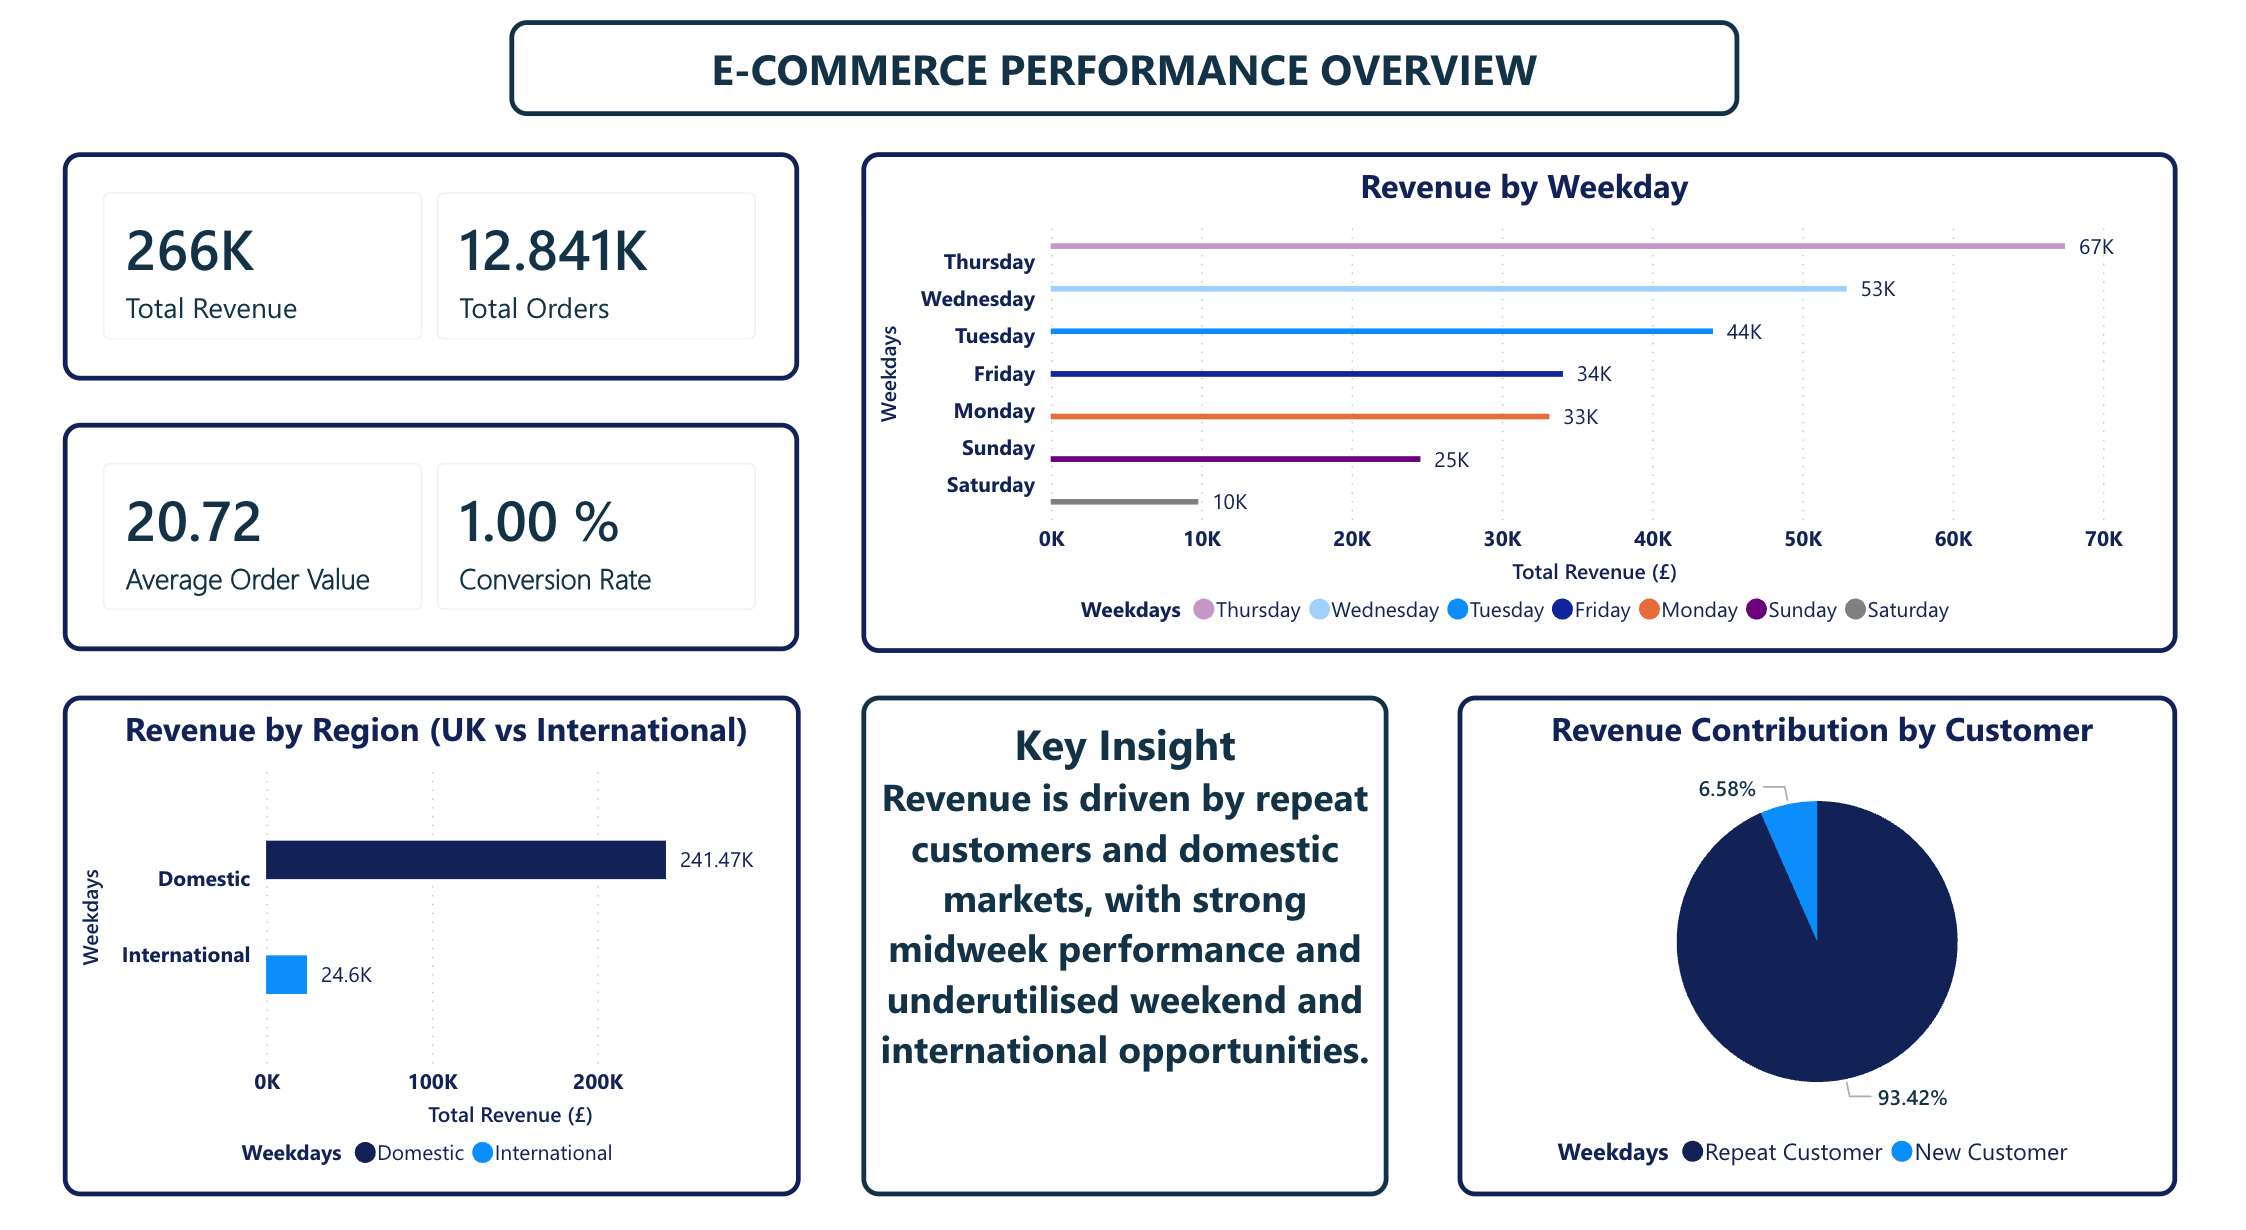

Layout of this report page (visuals, bound fields, positions):
{"tool":"powerbi","page":{"name":"Overview","canvas":[1280,720],"ordinal":0},"visuals":[{"type":"clusteredBarChart","title":"Revenue by Weekday","fields":{"Y":["Sum(online_retail_II.Revenue)"],"Category":["online_retail_II.Match Day"],"Series":["online_retail_II.Match Day"]},"box":[490.6,88.7,749.1,284.9],"z":0},{"type":"pieChart","title":"Revenue Contribution by Customer","fields":{"Y":["Sum(online_retail_II.Revenue)"],"Category":["online_retail_II.Customer Type"]},"box":[830.2,398.1,409.5,284.9],"z":1000},{"type":"clusteredBarChart","title":"Revenue by Region (UK vs International)","fields":{"Y":["Sum(online_retail_II.Revenue)"],"Category":["online_retail_II.Region"],"Series":["online_retail_II.Region"]},"box":[35.9,398.1,420,284.9],"z":2000},{"type":"cardVisual","title":"Total Revenue by Weekdays","fields":{"Data":["Sum(online_retail_II.Revenue)","CountNonNull(online_retail_II.Invoice)"]},"box":[36.3,89.2,418.9,130.1],"z":3000},{"type":"cardVisual","title":"Total Revenue by Weekdays","fields":{"Data":["online_retail_II.AOV","online_retail_II.Conversion Rate"]},"box":[36.3,243.5,418.9,130.1],"z":4000},{"type":"textbox","box":[290.6,13.2,700,54.7],"z":5000},{"type":"textbox","box":[490.6,398.1,300,284.9],"z":6000}]}

Visuals, with their boxes in screenshot pixels (x1, y1, x2, y2), scaled from the page's 1280x720 canvas onto the 2246x1230 screenshot:
"Revenue by Weekday" clusteredBarChart: 861, 152, 2175, 638
"Revenue Contribution by Customer" pieChart: 1457, 680, 2175, 1167
"Revenue by Region (UK vs International)" clusteredBarChart: 63, 680, 800, 1167
"Total Revenue by Weekdays" cardVisual: 64, 152, 799, 375
"Total Revenue by Weekdays" cardVisual: 64, 416, 799, 638
textbox: 510, 23, 1738, 116
textbox: 861, 680, 1387, 1167
